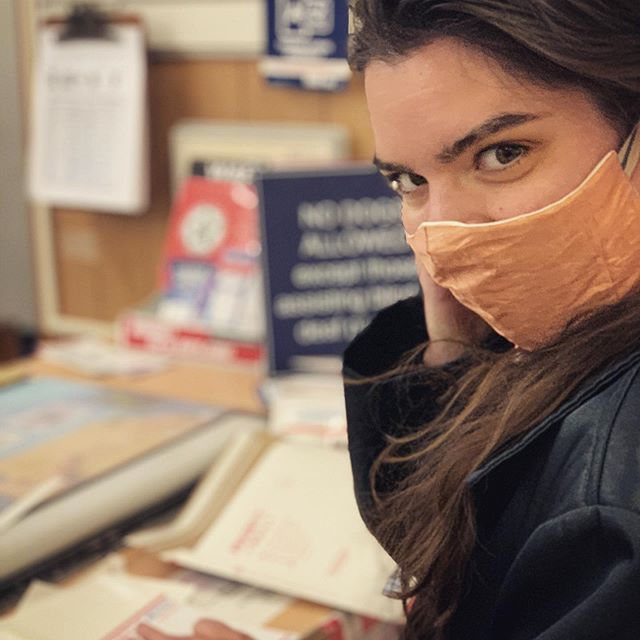homemade: (385, 172, 637, 351)
